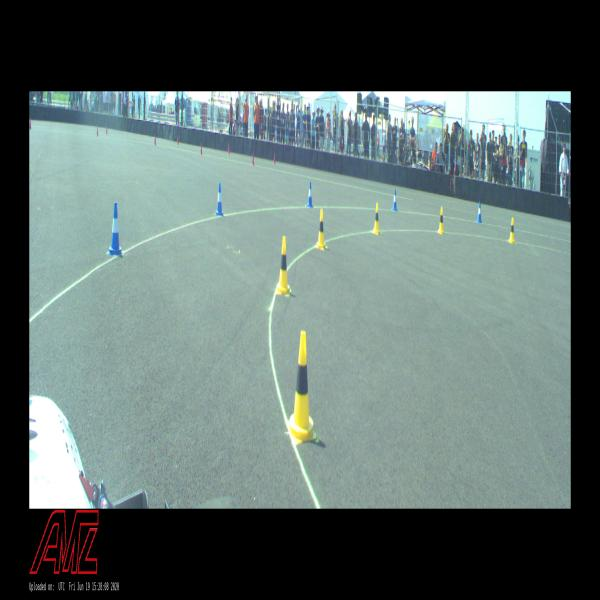blue_cone: (107, 202, 122, 256), (215, 182, 224, 216), (307, 182, 313, 208), (476, 202, 482, 222), (392, 188, 397, 212)
yellow_cone: (287, 332, 317, 444), (275, 236, 292, 296), (316, 208, 328, 250), (372, 203, 381, 235), (438, 207, 444, 235), (509, 217, 515, 244)
